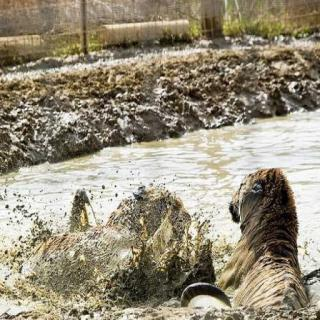Tiger: (203, 158, 320, 320)
